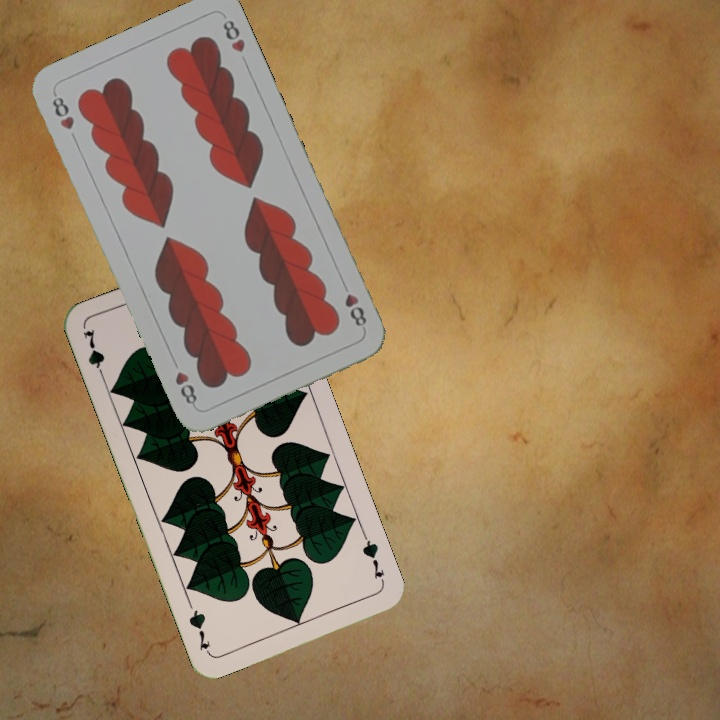G7: (358, 531, 388, 588), (79, 325, 108, 383)
H8: (337, 277, 370, 329), (48, 89, 77, 133)
